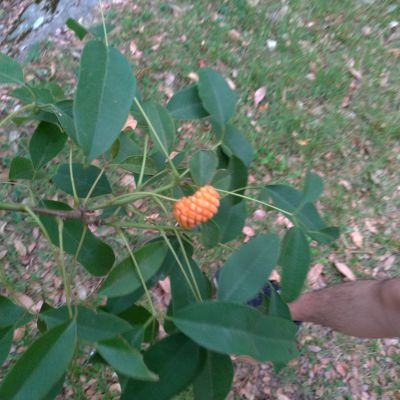eggs: (168, 182, 224, 227)
